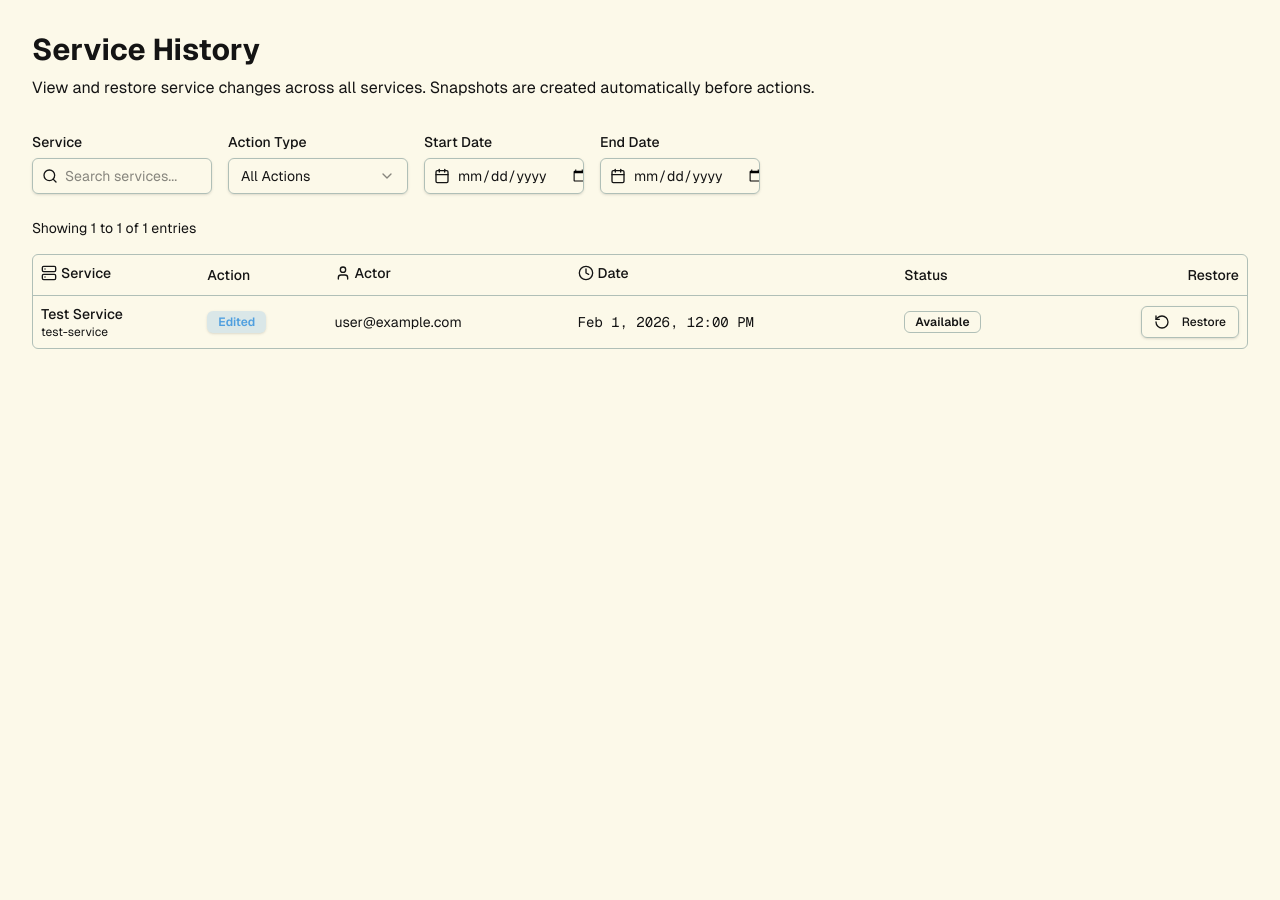
Scenario: History Page › restore functionality › opens restore confirmation dialog when Restore button is clicked
Click the button "Restore" at (1190, 322), box [1141,306,1239,338]
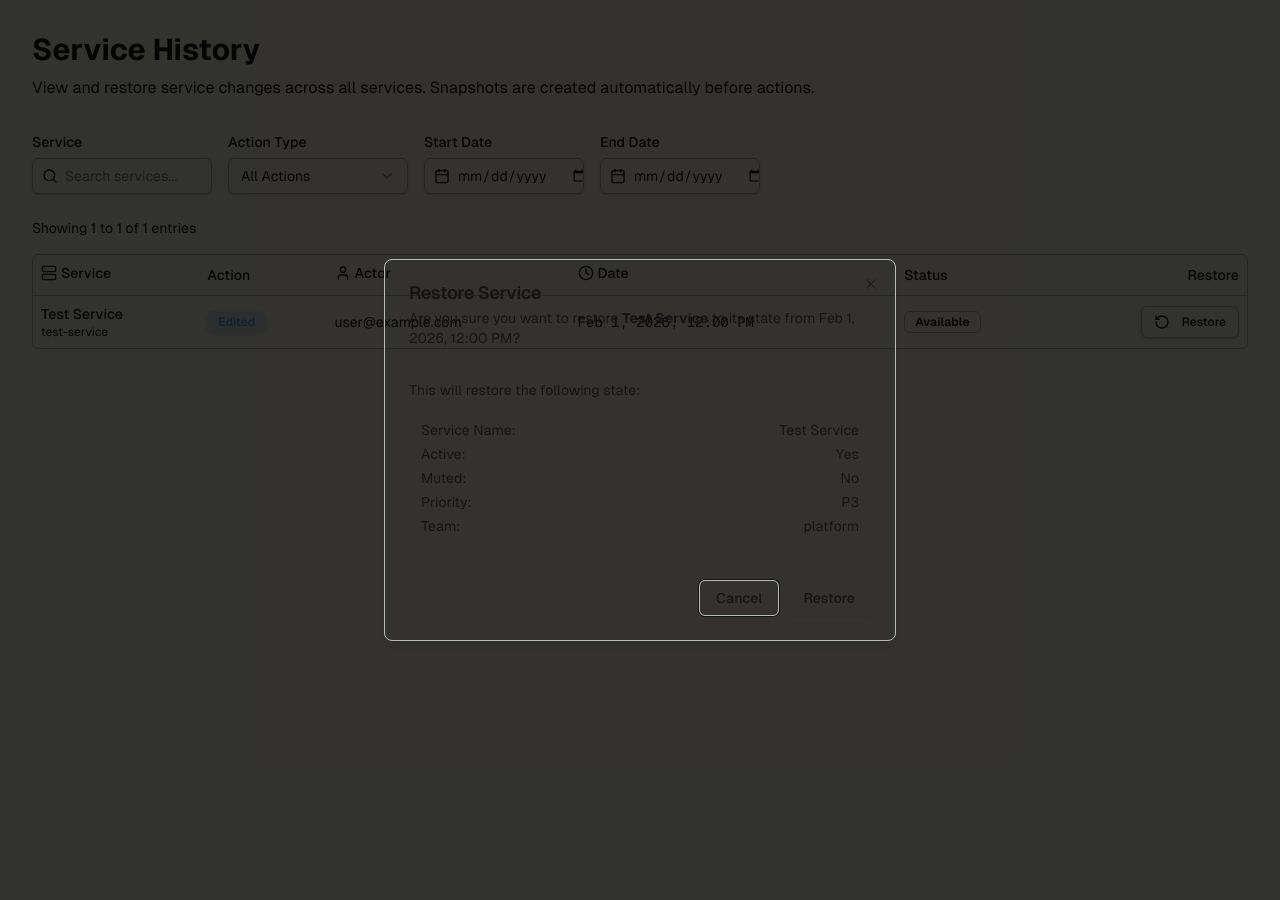
Now the dialog is shown, box [384,259,896,641]
Now the heading "Restore Service" is shown, box [409,282,541,303]
Now the text "Are you sure you want to restore" is shown, box [409,310,618,326]
